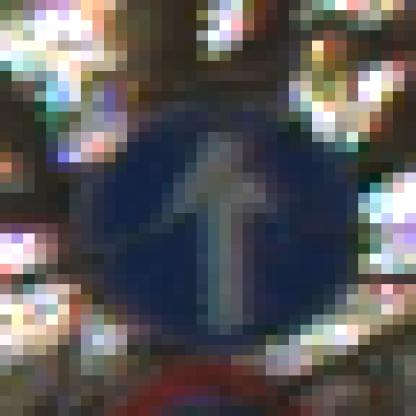AheadOnly: (59, 62, 359, 366)
